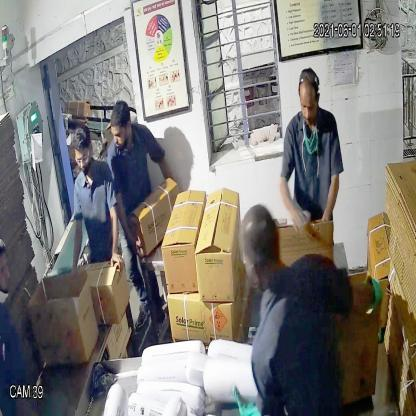goggles: (70, 144, 93, 170)
no_goggles: (296, 91, 321, 119)
